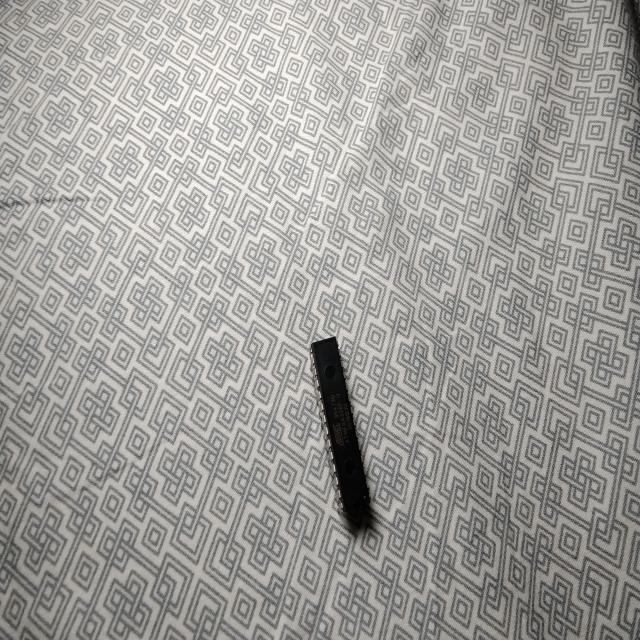atmega: (307, 334, 373, 530)
